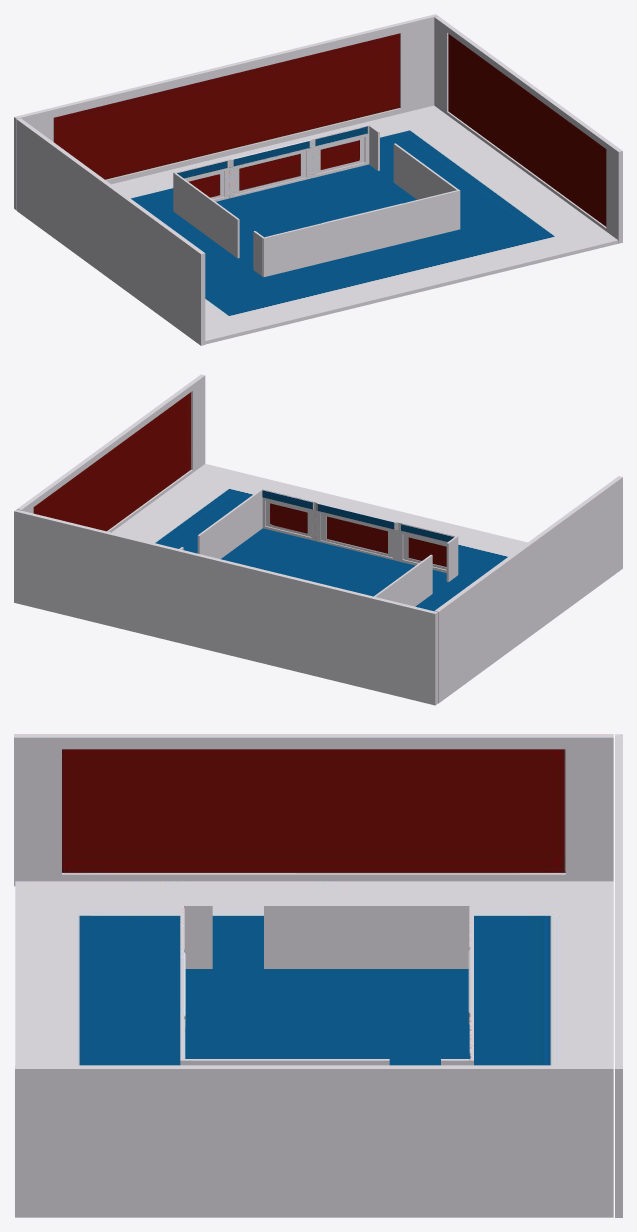
Rendered from ATO2-1.fbx.
3 views of the same model, one above another, from view 1: azimuth 30°, elevation 25°; view 2: azimuth 150°, elevation 25°; view 3: azimuth 270°, elevation 25° (orthographic). The views are drawn at different scales.
Visible parts, largest first — view 1: PAREDE_TRAS2; view 2: PAREDE_TRAS2; view 3: PAREDE_TRAS2.
Part boxes in pixels (bbox=[...]): PAREDE_TRAS2: bbox=[14, 14, 622, 345]; PAREDE_TRAS2: bbox=[14, 374, 622, 705]; PAREDE_TRAS2: bbox=[14, 734, 622, 1217].
Bounding box in the file's own units: 37.05 × 7.69 × 28.49.
Materials: 1 (1 with a texture image).
